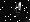person: (14, 4, 21, 17)
